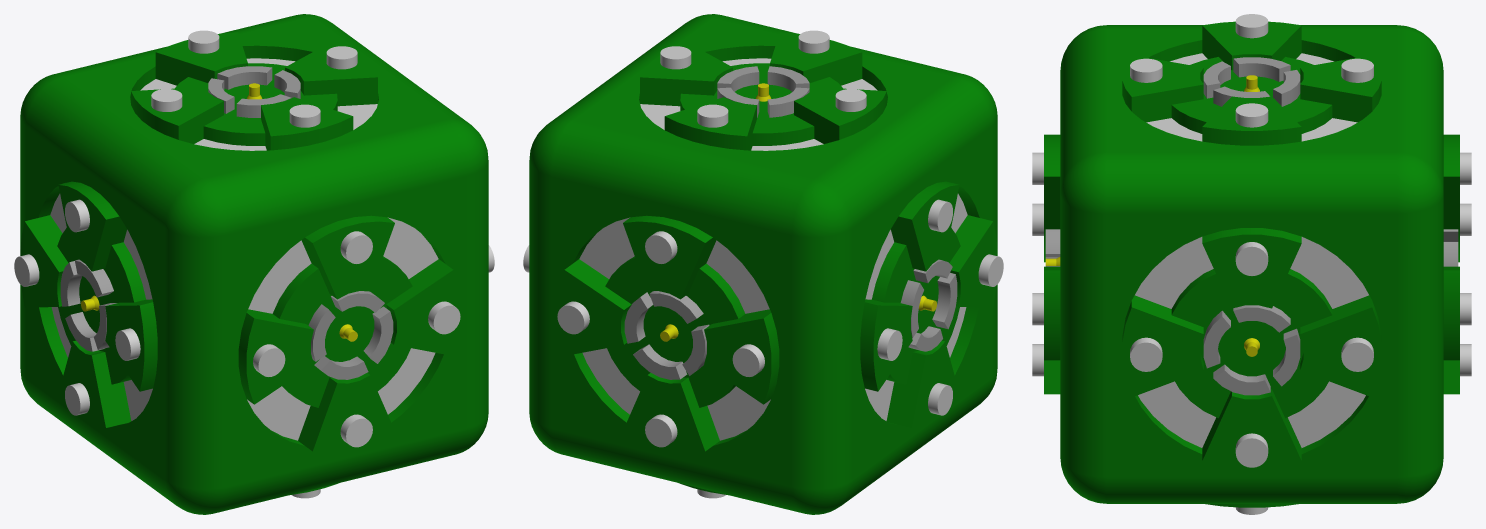
Rendered from blocker.dae.
3 renders of one model, left to right at view 1: azimuth 30°, elevation 25°; view 2: azimuth 150°, elevation 25°; view 3: azimuth 270°, elevation 25°, orthographic. The views are drawn at different scales.
Visible parts, largest first — view 1: Actor0; view 2: Actor0; view 3: Actor0.
Boxes of the visible parts, bbox=[...] form: Actor0: bbox=[14, 14, 494, 514]; Actor0: bbox=[523, 14, 1003, 514]; Actor0: bbox=[1032, 14, 1471, 514].
Bounding box in the file's own units: 0.048 × 0.048 × 0.048.
